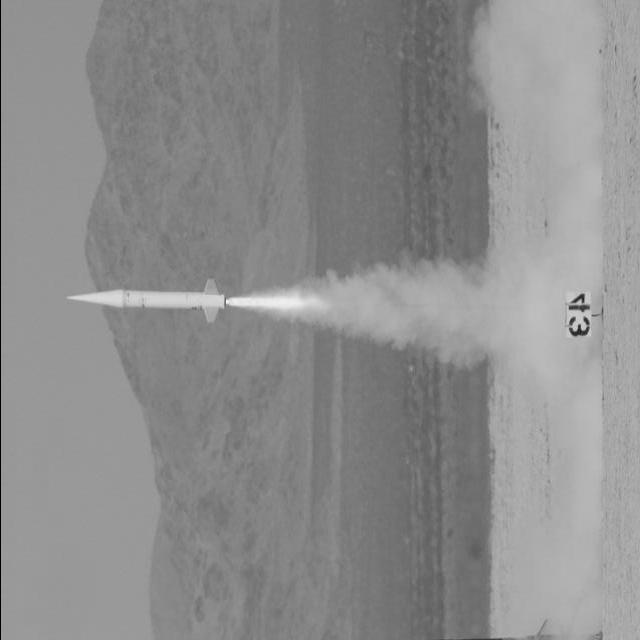missile: (63, 278, 224, 326)
